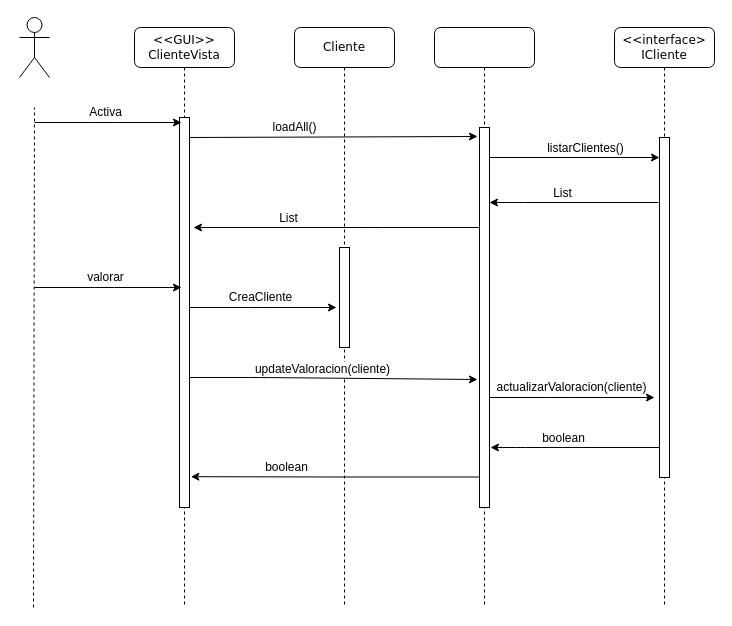
The diagram is 732 pixels wide and 626 high, and some of its shapes have lost their labels. Here are the shapes that lost their labels. From the top down, the box of each, then its label:
(18, 16, 50, 78): Admin
(434, 26, 534, 608): <<control> ControlCliente
